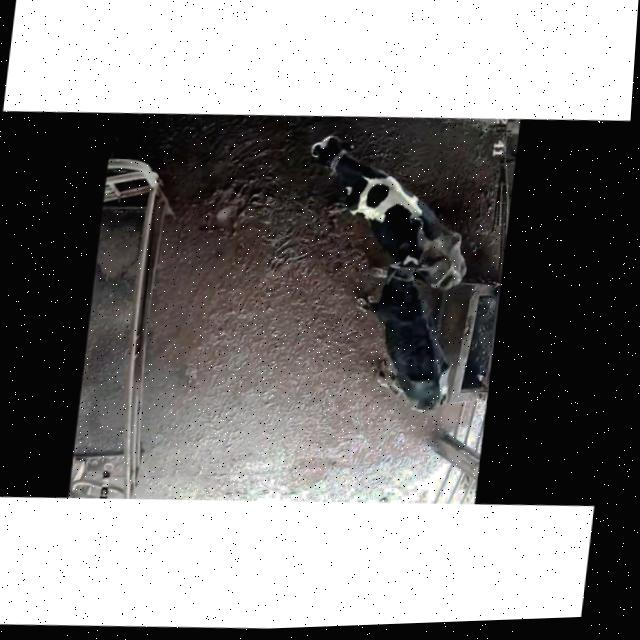propping: (378, 192, 448, 285)
